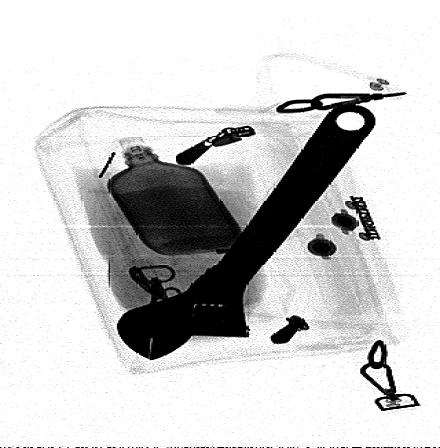Wrench: (116, 102, 380, 364)
